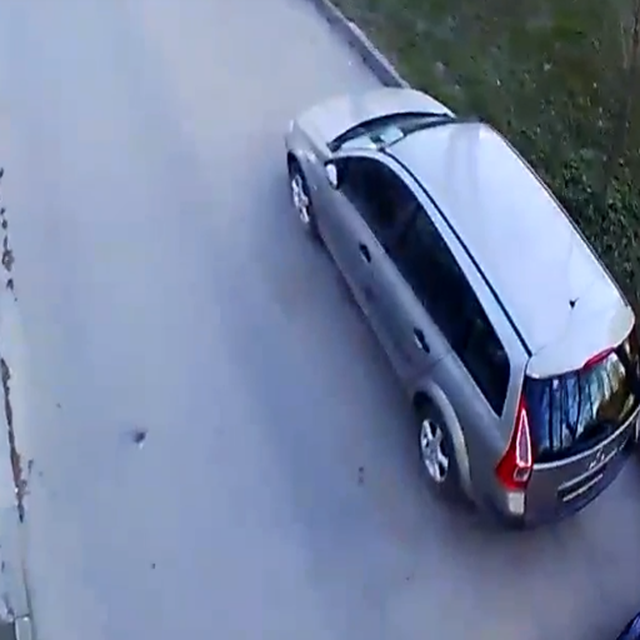car: (285, 86, 640, 529)
